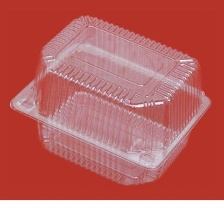plastic_box: (3, 9, 217, 192)
